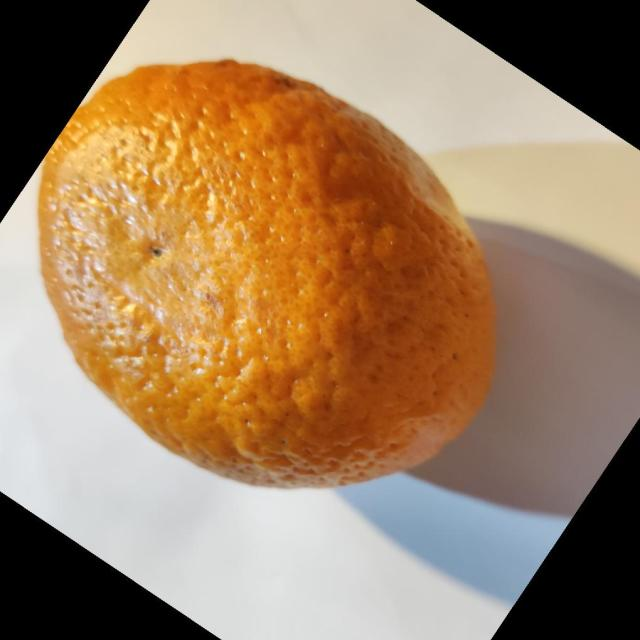fresh orange: (36, 57, 498, 490)
